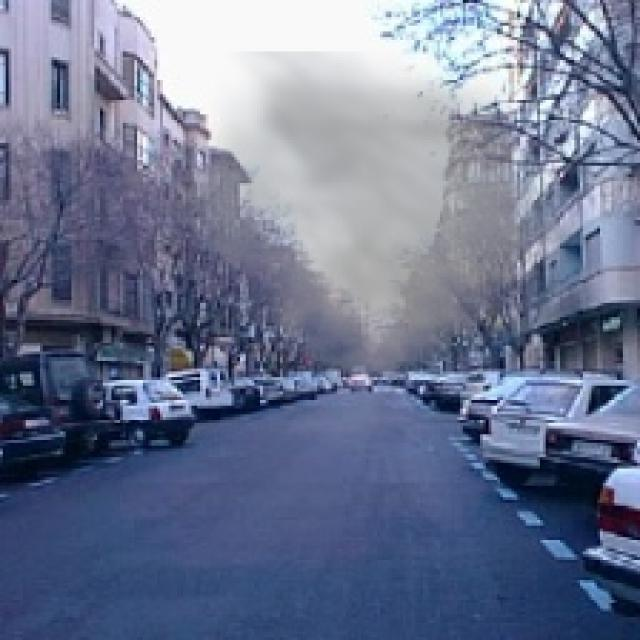Smoke: (160, 51, 586, 420)
